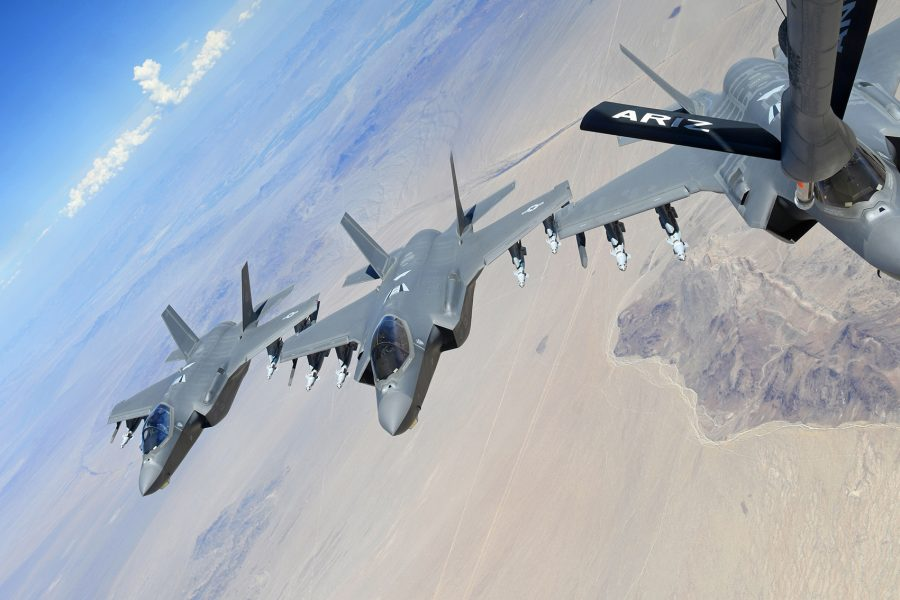F-35 Lightning: (574, 78, 900, 296), (289, 179, 500, 437), (100, 269, 268, 510)
